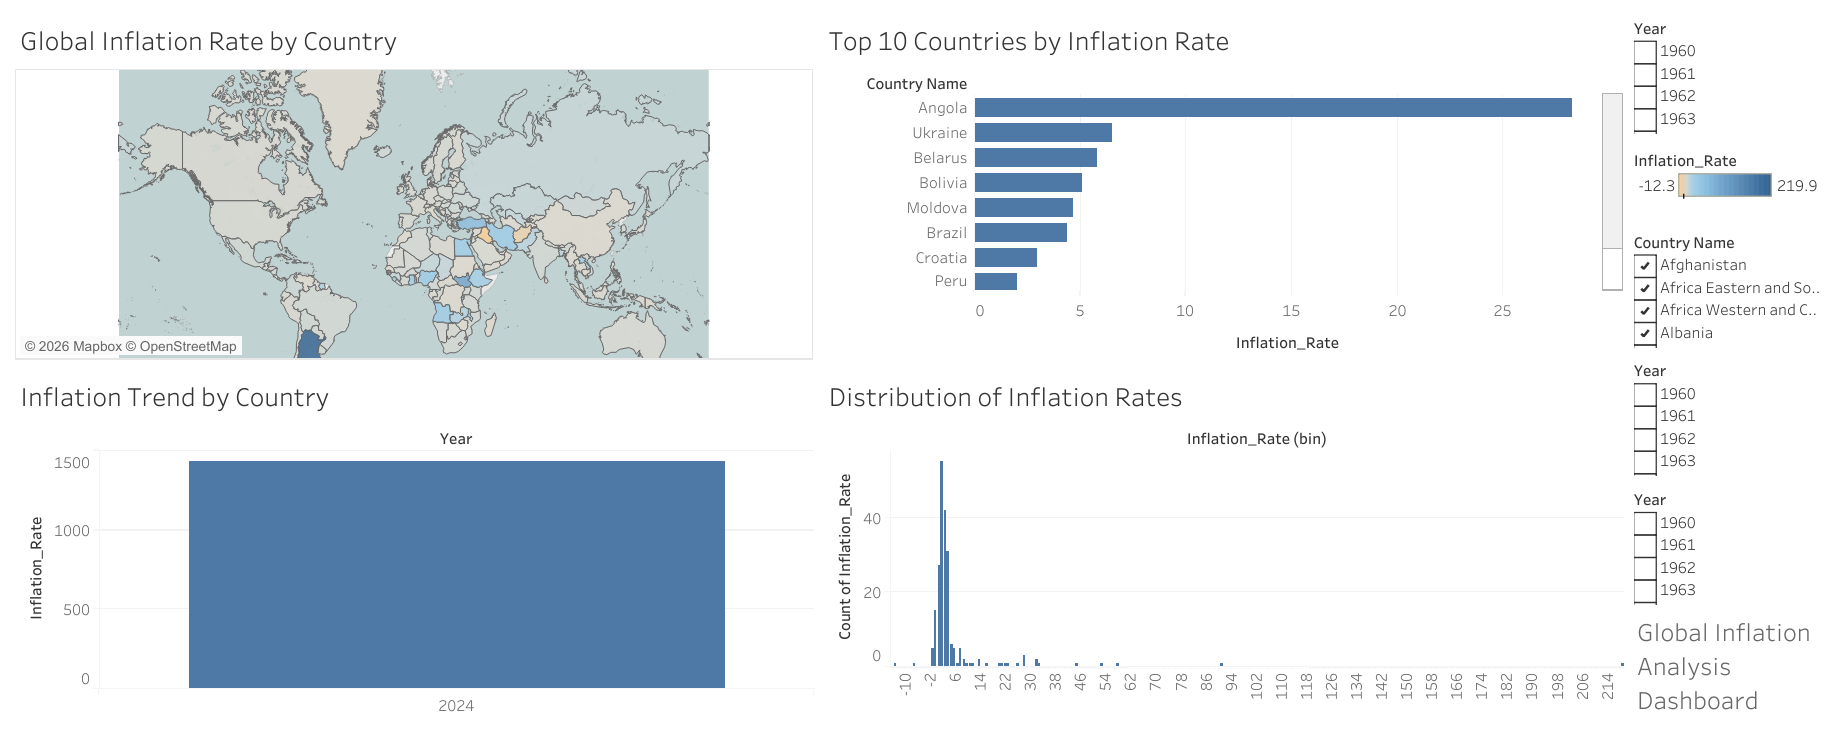

The dashboard page shown, as its layout file describes it:
{"tool":"tableau","page":{"name":"Dashboard 1","canvas":[1000,1000],"units":"permille","ordinal":0},"visuals":[{"type":"worksheet","title":"World Inflation Map","mark":"Automatic","box":[4.8,10,446.9,490]},{"type":"worksheet","title":"Top Countries by Inflation","mark":"Automatic","rows":["Country Name"],"cols":["Pivot Field Values"],"box":[451.7,10,446.9,490.6]},{"type":"filter","title":"World Inflation Map","param":"[federated.0hjjiiw00qfcws1cbu8s40qvc9l2].[none:Pivot Field Names:ok]","box":[898.6,10,96.6,179.8]},{"type":"legend","title":"World Inflation Map","param":"[federated.0hjjiiw00qfcws1cbu8s40qvc9l2].[sum:Pivot Field Values:qk]","box":[898.6,189.8,96.6,91.1]},{"type":"filter","title":"Inflation Trend Over Time","param":"[federated.0hjjiiw00qfcws1cbu8s40qvc9l2].[none:Country Name:nk]","box":[898.6,280.9,96.6,179.8]},{"type":"filter","title":"Top Countries by Inflation","param":"[federated.0hjjiiw00qfcws1cbu8s40qvc9l2].[none:Pivot Field Names:ok]","box":[898.6,460.7,96.6,179.8]},{"type":"worksheet","title":"Inflation Trend Over Time","mark":"Automatic","rows":["Pivot Field Values"],"cols":["Pivot Field Names"],"box":[4.8,500,446.9,490]},{"type":"worksheet","title":"Inflation Distribution","mark":"Automatic","rows":["Pivot Field Values"],"cols":["Inflation_Rate (bin)"],"box":[451.7,500.6,446.9,489.4]},{"type":"filter","title":"Inflation Distribution","param":"[federated.0hjjiiw00qfcws1cbu8s40qvc9l2].[none:Pivot Field Names:ok]","box":[898.6,640.4,96.6,179.8]},{"type":"text","box":[898.6,820.2,96.6,169.8]}]}

Visuals, with their boxes on the dashboard's canvas, which has no fixed pixel size, in thousandths of its width and height (x1, y1, x2, y2). These are canvas units, not pixel positions in the 1838x730 screenshot, which may show the page scaled, cropped or inside an application window:
"World Inflation Map" worksheet: bbox=(5, 10, 452, 500)
"Top Countries by Inflation" worksheet: bbox=(452, 10, 899, 501)
"World Inflation Map" filter: bbox=(899, 10, 995, 190)
"World Inflation Map" legend: bbox=(899, 190, 995, 281)
"Inflation Trend Over Time" filter: bbox=(899, 281, 995, 461)
"Top Countries by Inflation" filter: bbox=(899, 461, 995, 640)
"Inflation Trend Over Time" worksheet: bbox=(5, 500, 452, 990)
"Inflation Distribution" worksheet: bbox=(452, 501, 899, 990)
"Inflation Distribution" filter: bbox=(899, 640, 995, 820)
text: bbox=(899, 820, 995, 990)
